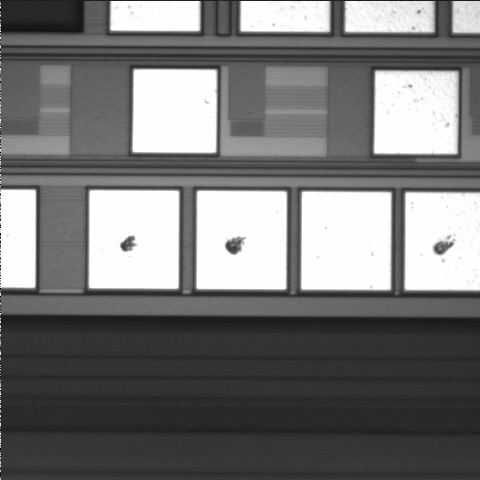pad: (89, 190, 179, 289), (301, 191, 391, 290), (197, 191, 287, 289), (133, 69, 217, 153), (374, 71, 458, 154)
